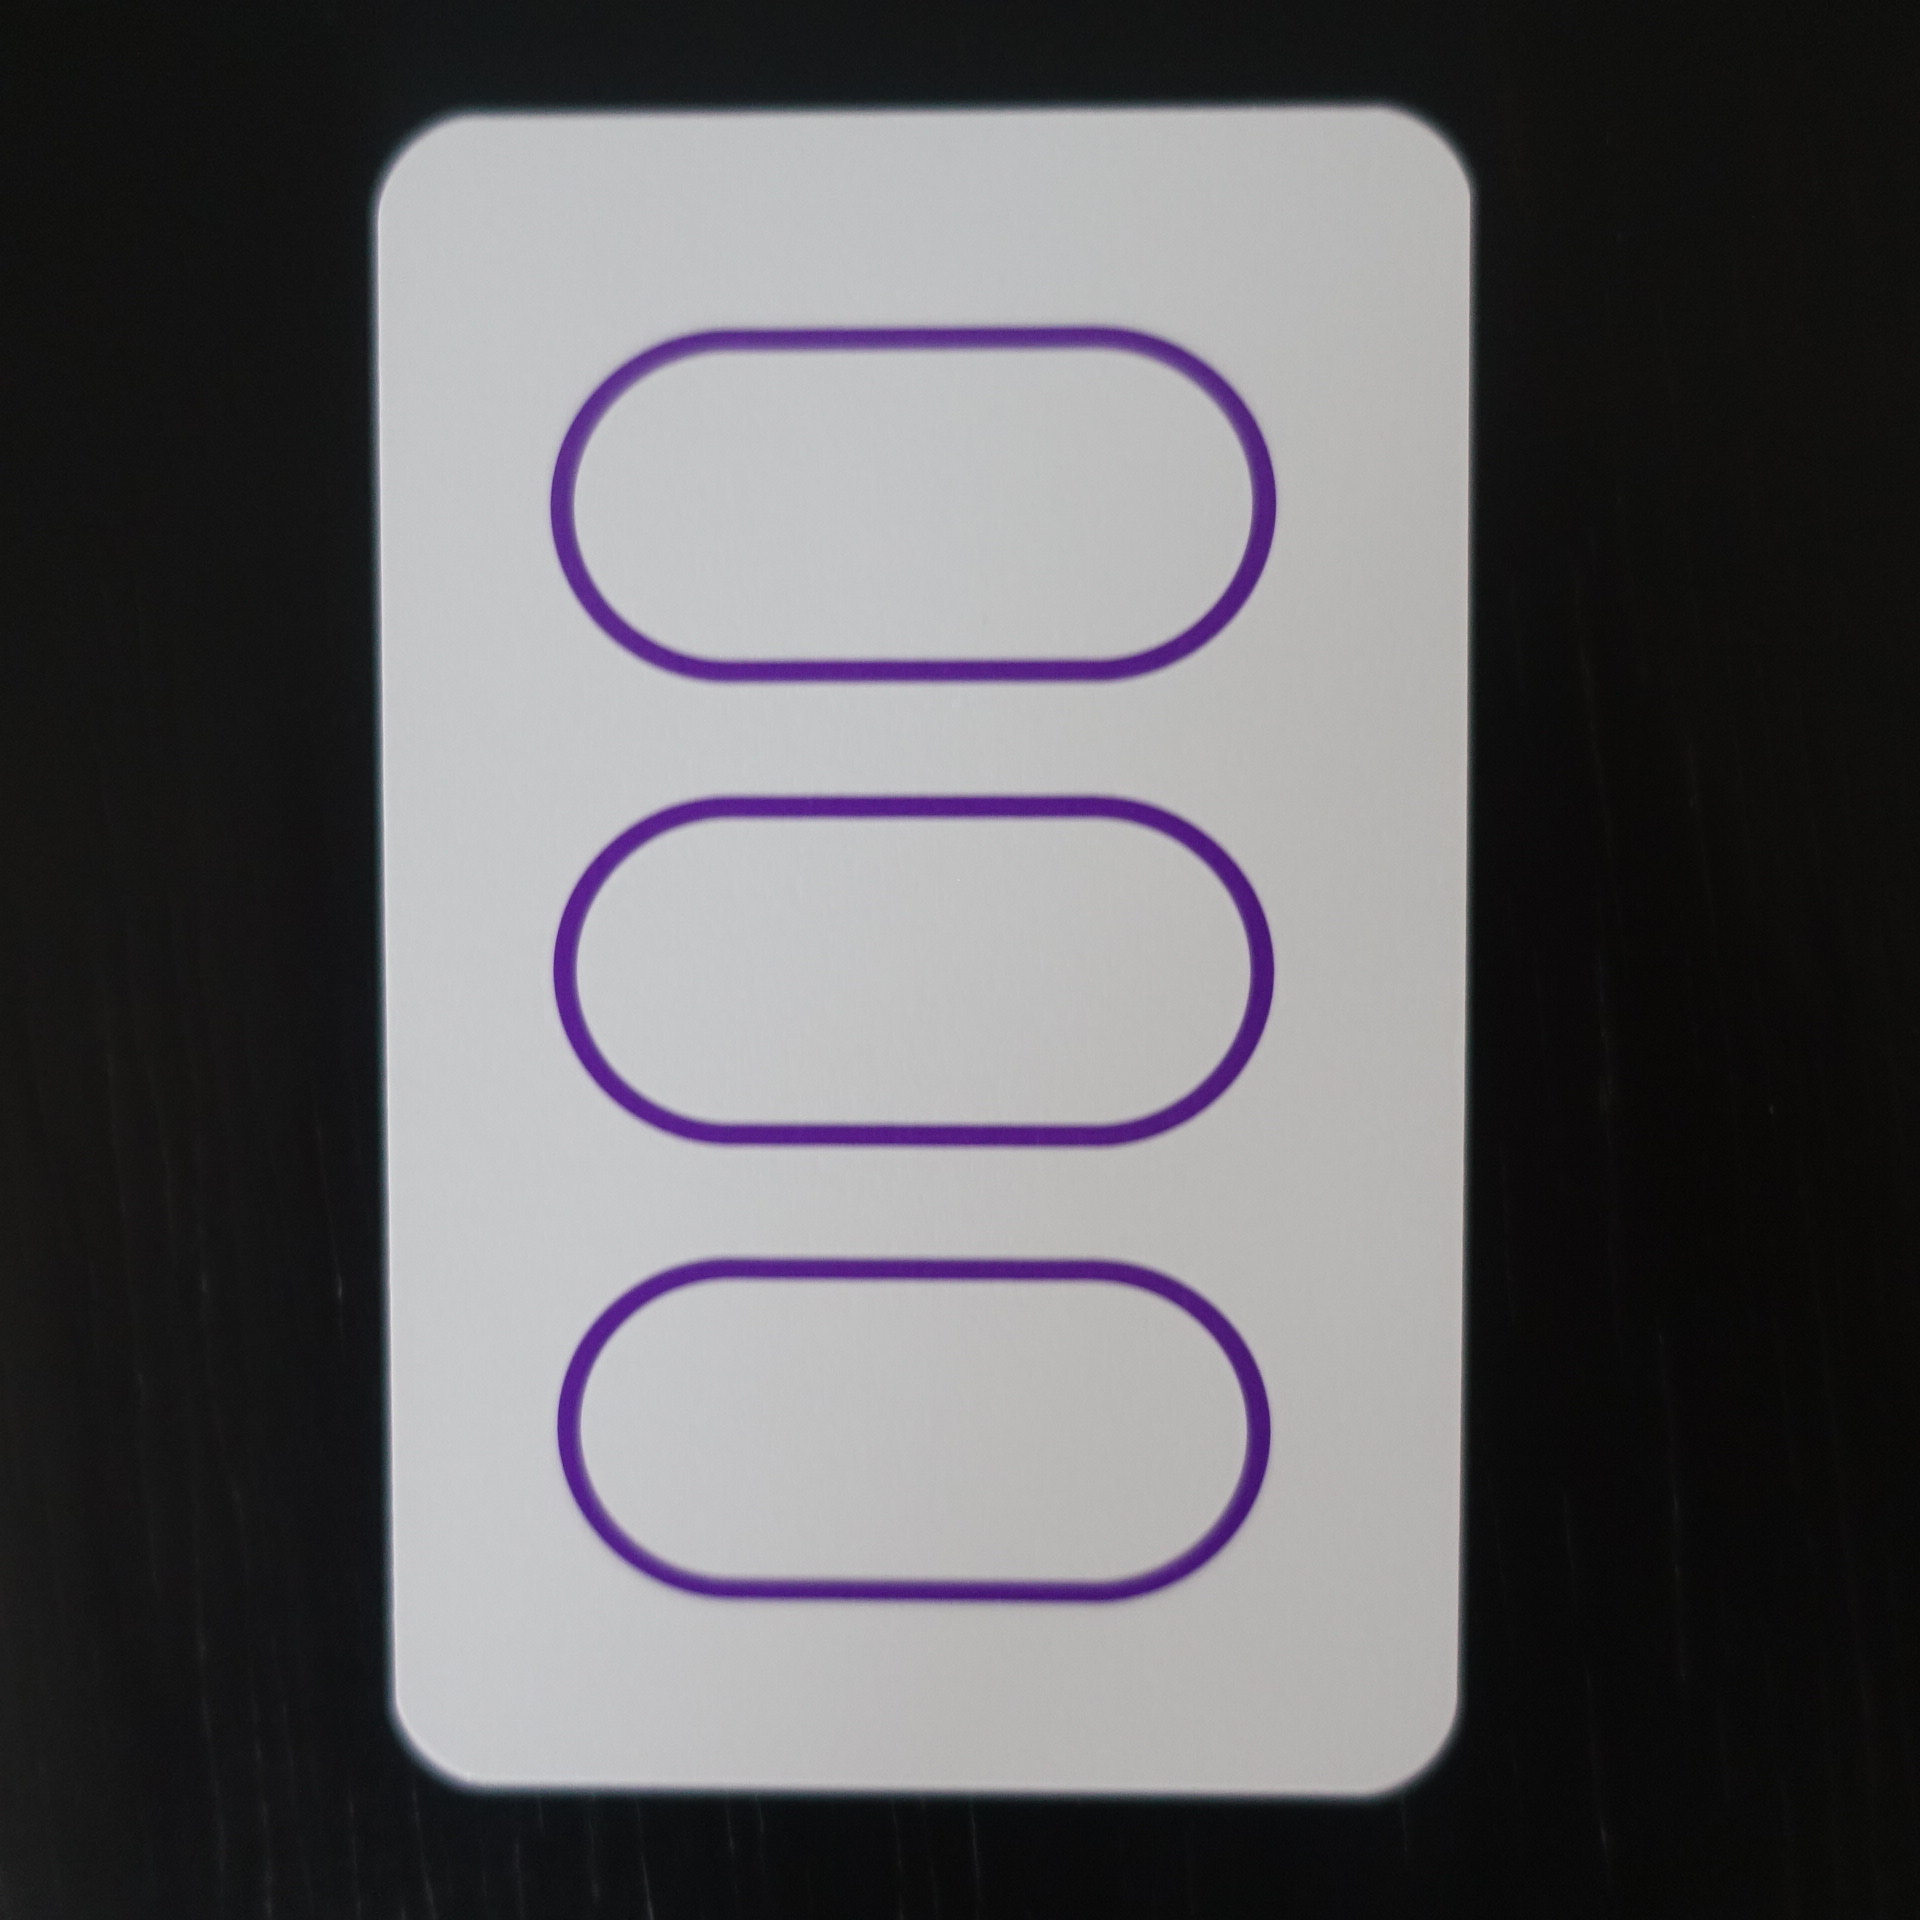c-3-u-o-p: (334, 88, 1514, 1832)
